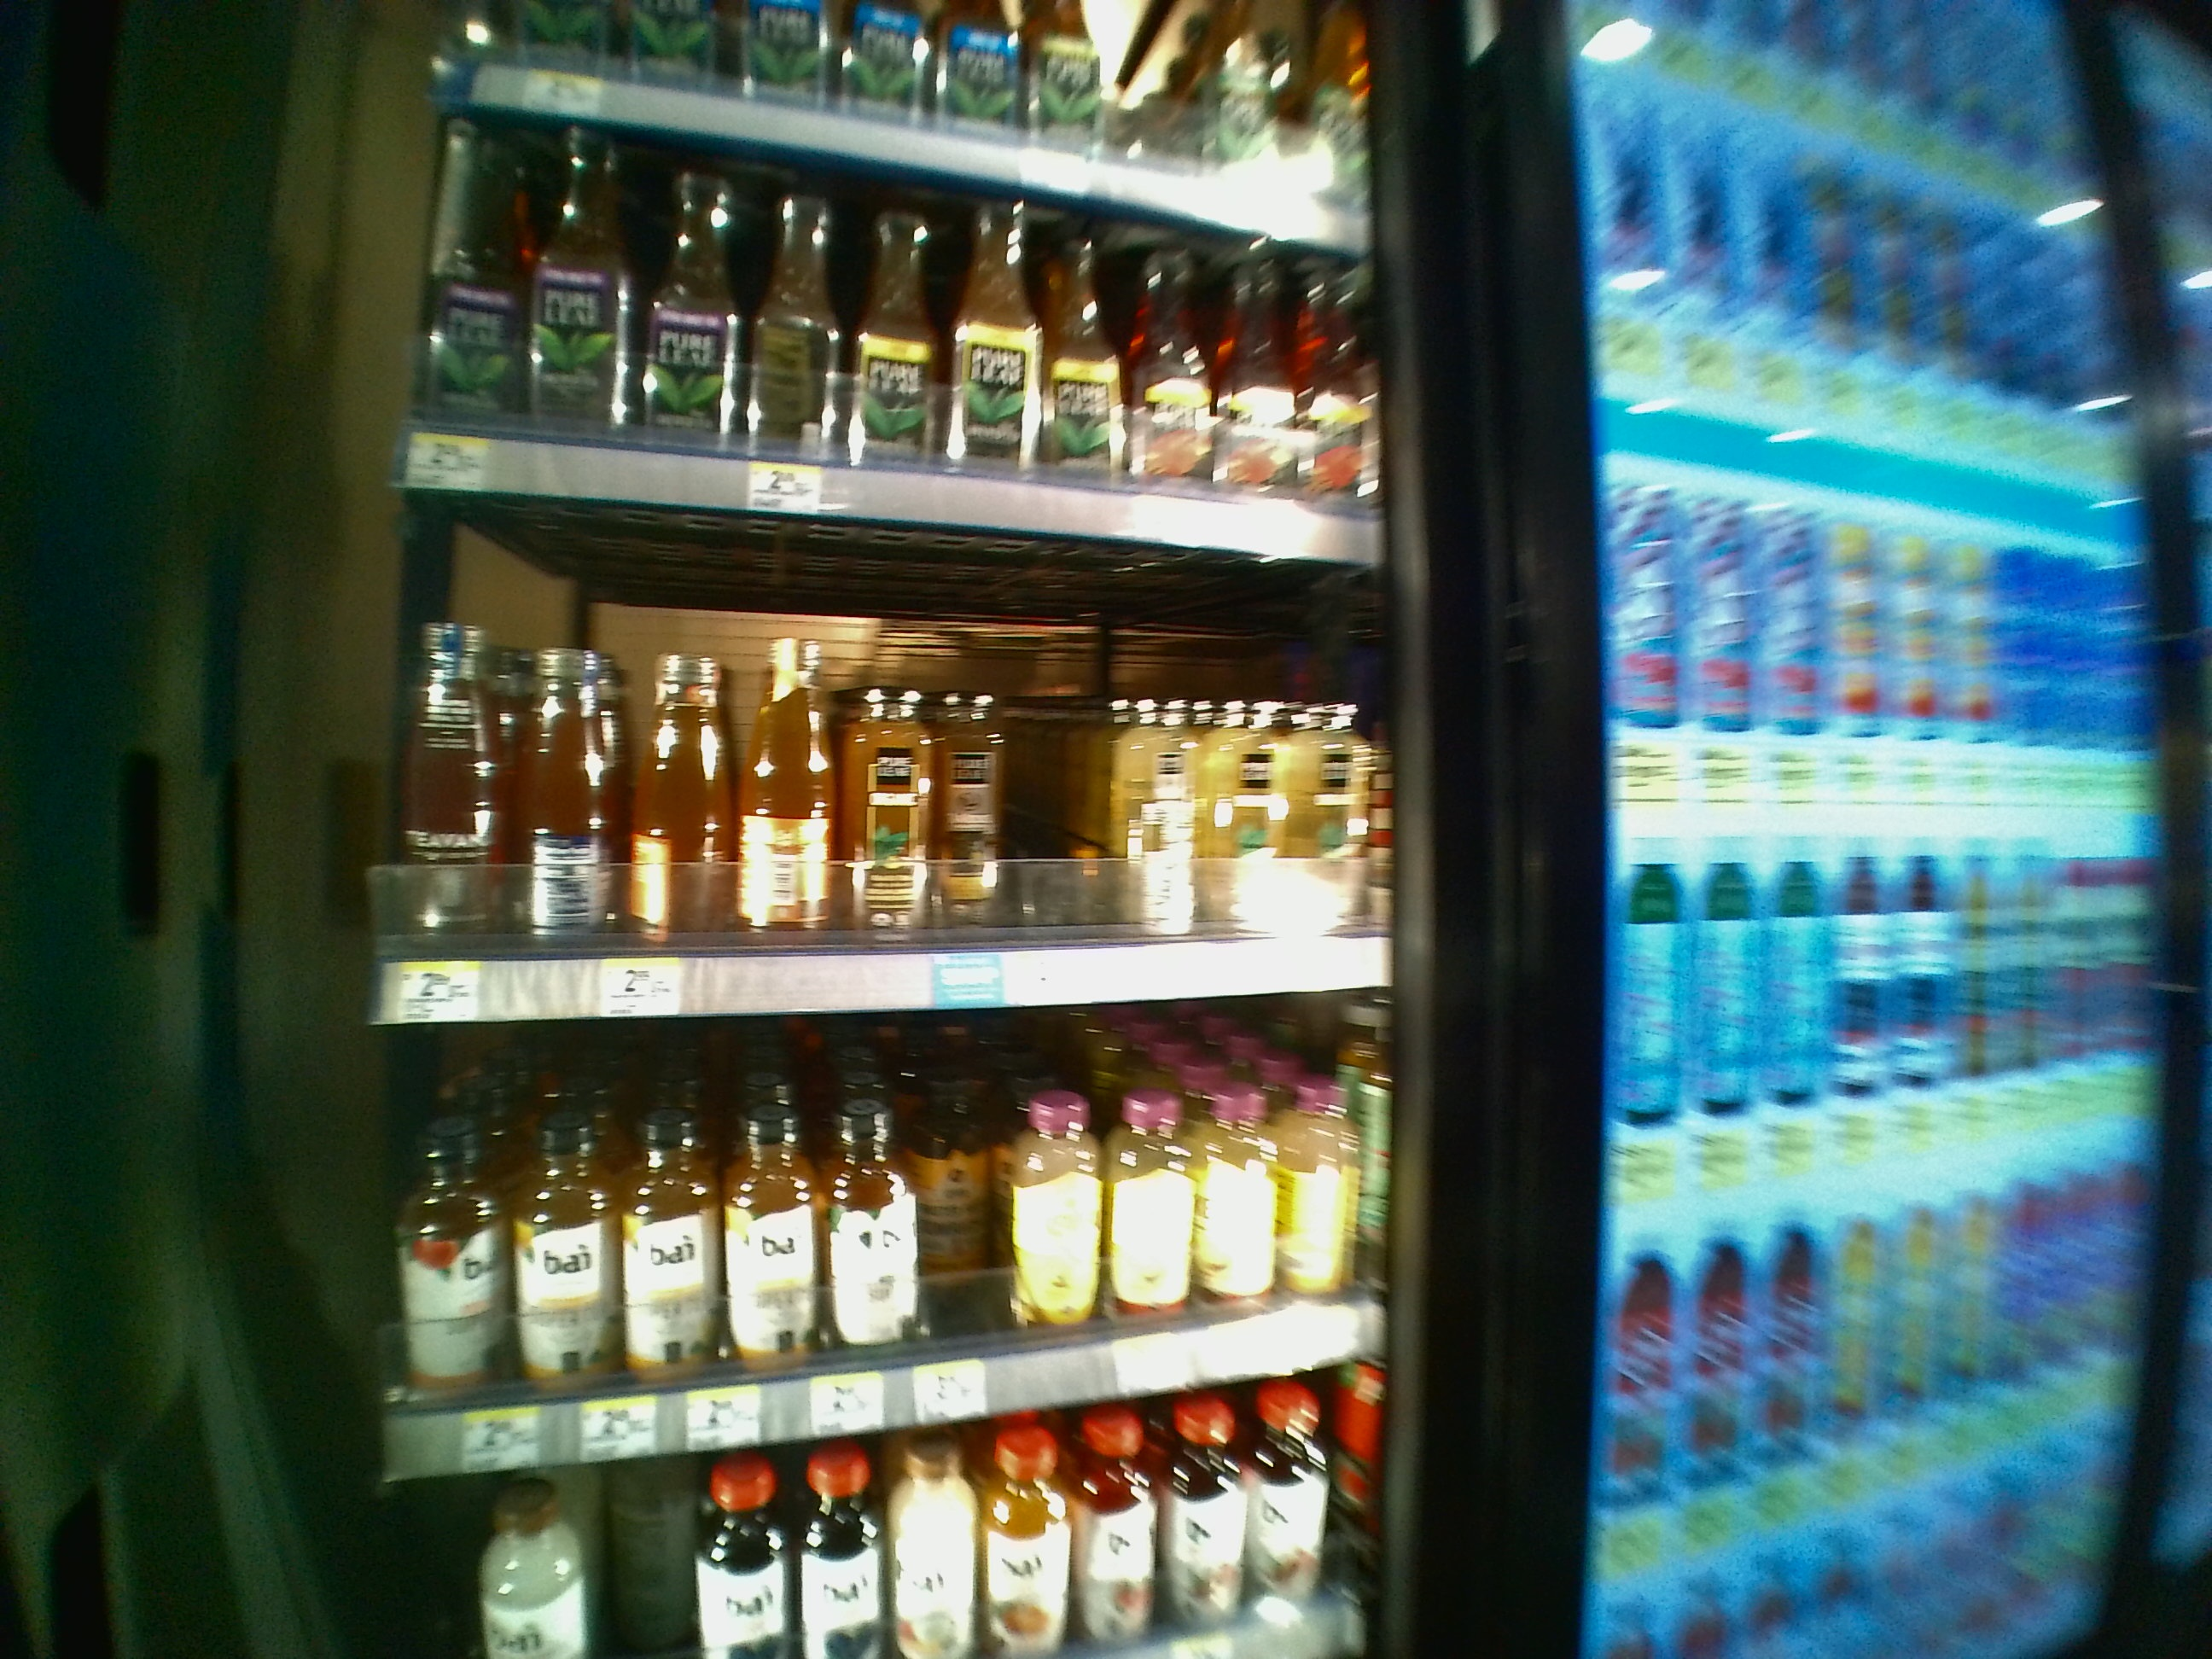shelf: (369, 490, 1395, 1028), (366, 1044, 1390, 1485)
